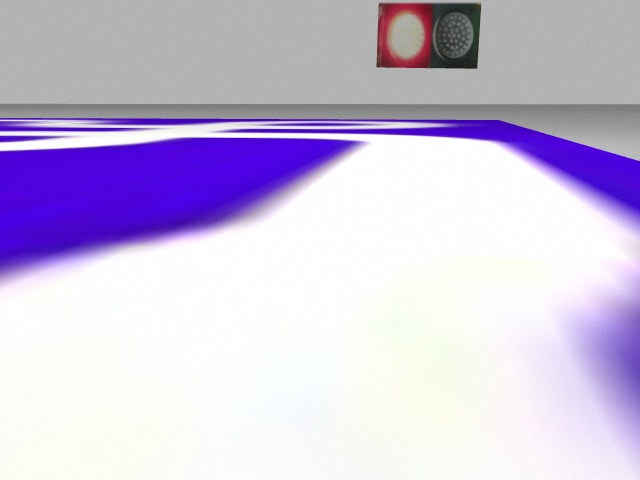red: (376, 4, 433, 69)
